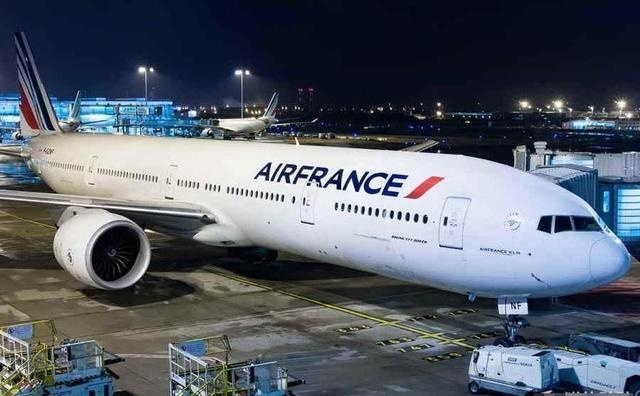airplane: (12, 88, 631, 302)
